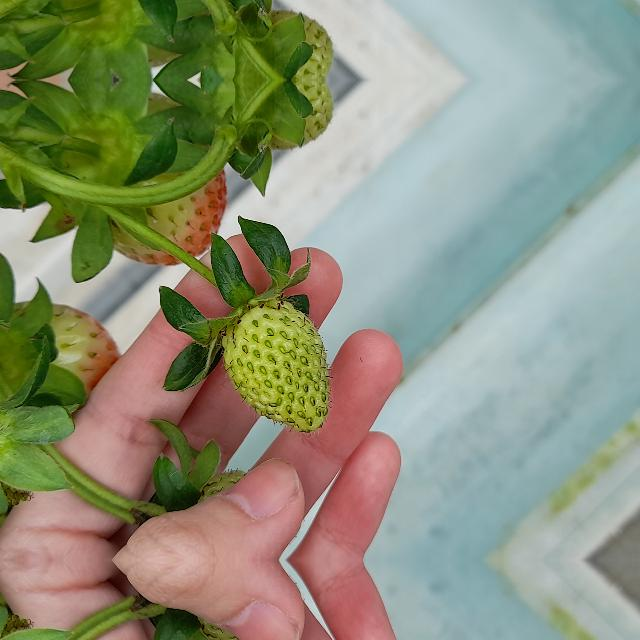Health_25: (220, 298, 330, 432)
Health_75: (68, 116, 230, 256), (0, 291, 126, 444), (67, 0, 230, 44)
